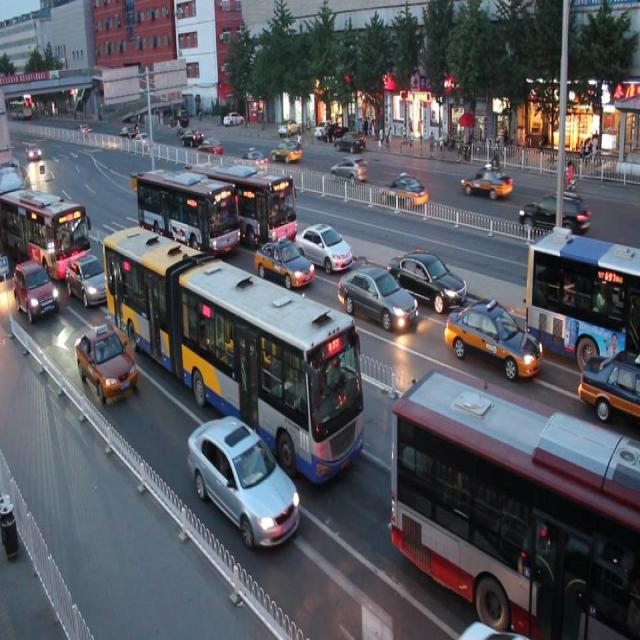car: (186, 410, 297, 544), (446, 294, 544, 382), (337, 258, 416, 331), (390, 243, 468, 309), (77, 324, 138, 400), (578, 344, 640, 418), (253, 230, 314, 289), (294, 214, 352, 273), (12, 262, 60, 321), (66, 254, 115, 309), (455, 615, 533, 640)
van: (102, 218, 366, 482), (391, 366, 640, 640), (524, 225, 640, 360), (136, 160, 240, 262), (191, 153, 298, 248), (1, 182, 90, 272)
